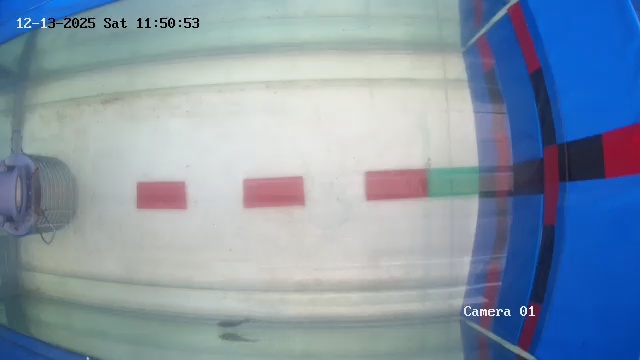fish: (207, 310, 249, 330)
